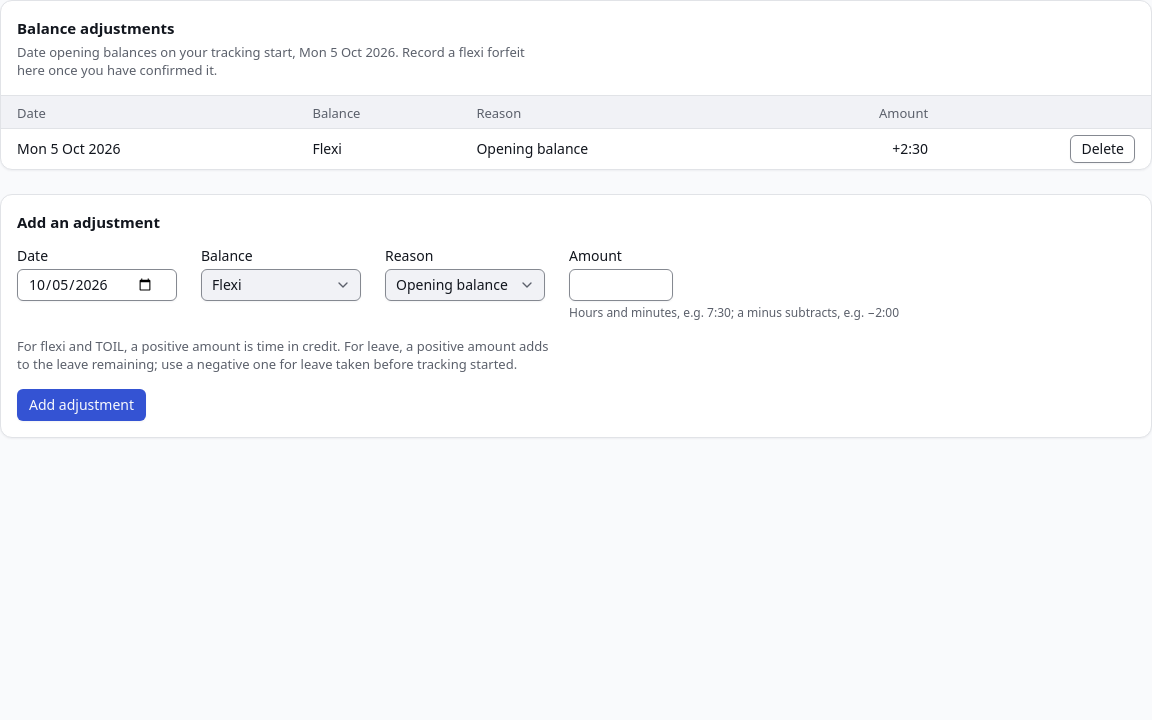
Test case: BalancesTab › deletes an adjustment with undo
This screenshot has width=1152, height=720.
Expected: the text "+2:30" is shown, x1=774 y1=128 x2=940 y2=168
Click the button named "Delete Flexi adjustment of +2:30 on Mon 5 Oct 2026" at (1103, 148), box x1=1070 y1=134 x2=1135 y2=162
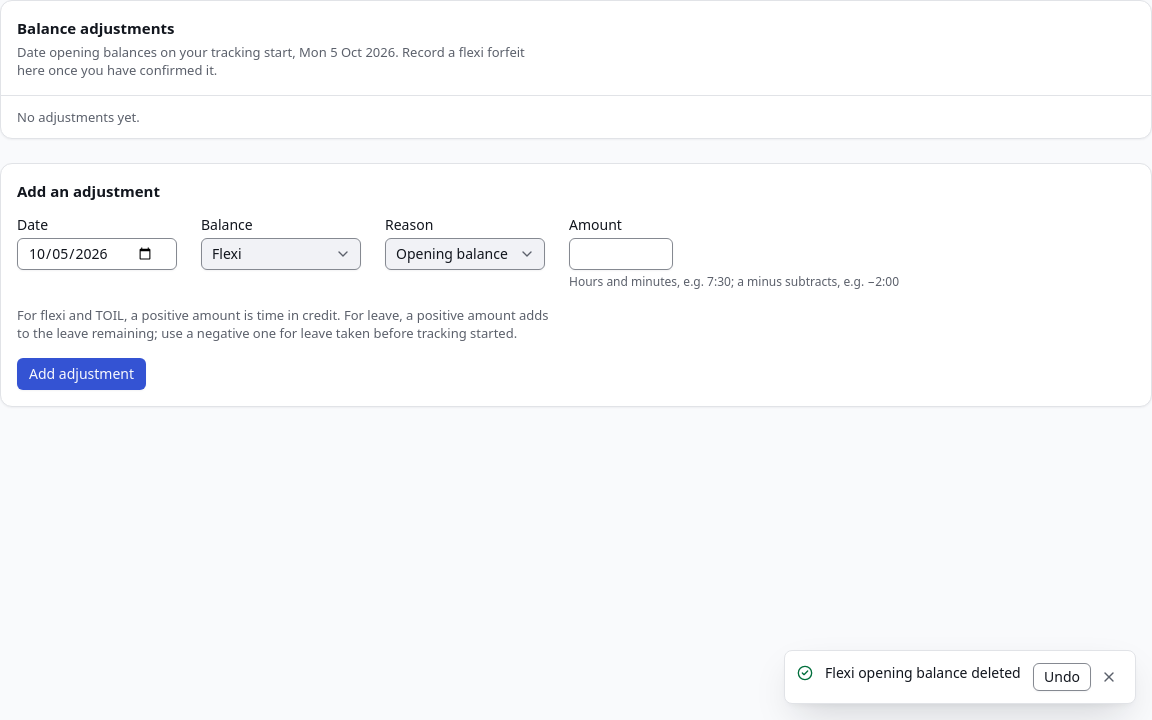
Now the text "Flexi opening balance deleted" is shown, box x1=825 y1=663 x2=1021 y2=683
Now the text "No adjustments yet." is shown, box x1=17 y1=108 x2=140 y2=126
Click the button "Undo" at (1062, 677), box x1=1033 y1=663 x2=1091 y2=691
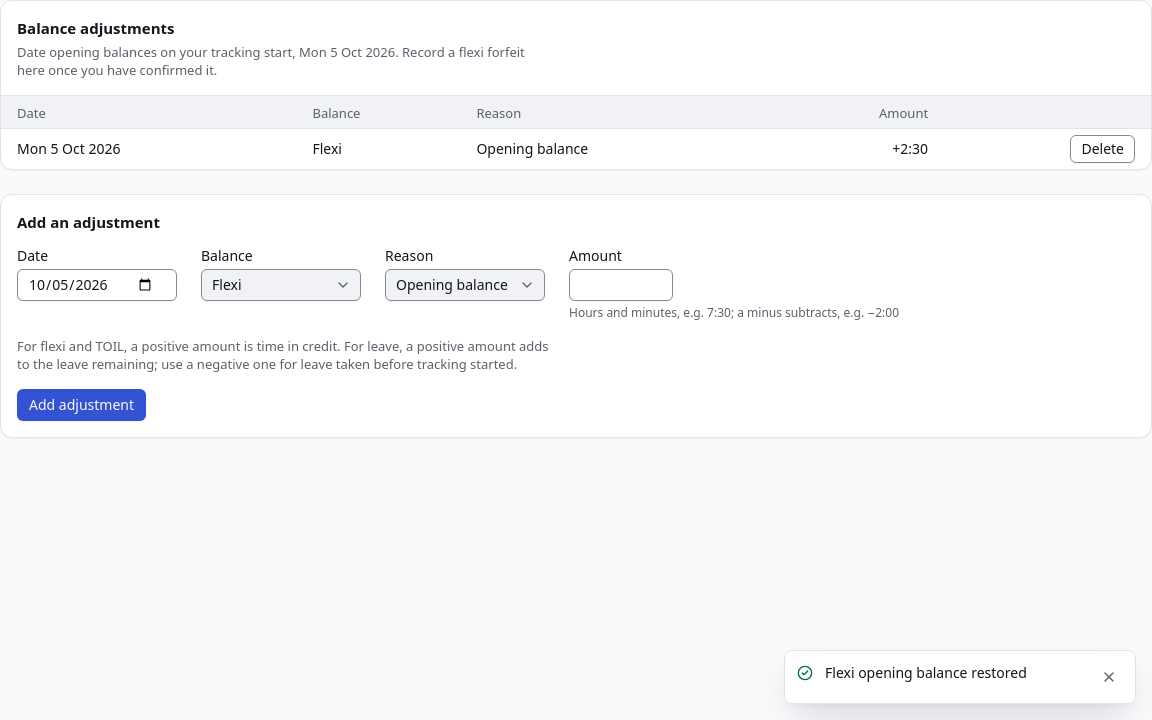
Now the text "Flexi opening balance restored" is shown, box x1=825 y1=663 x2=1027 y2=682
Now the text "+2:30" is shown, box x1=774 y1=128 x2=940 y2=168
